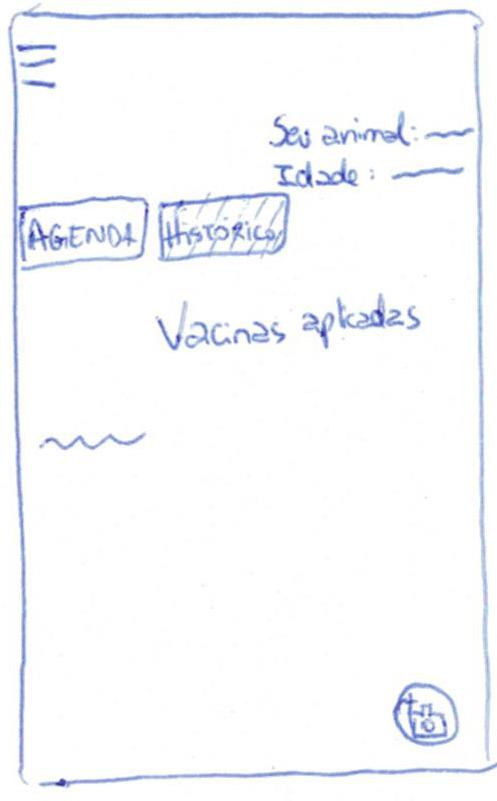Button: (18, 196, 149, 272), (160, 192, 290, 263), (17, 45, 57, 89)
Label: (156, 292, 421, 352), (269, 114, 418, 148), (276, 159, 377, 187), (39, 429, 149, 452), (391, 166, 464, 180), (424, 127, 474, 140)
Screen: (11, 12, 490, 788)
